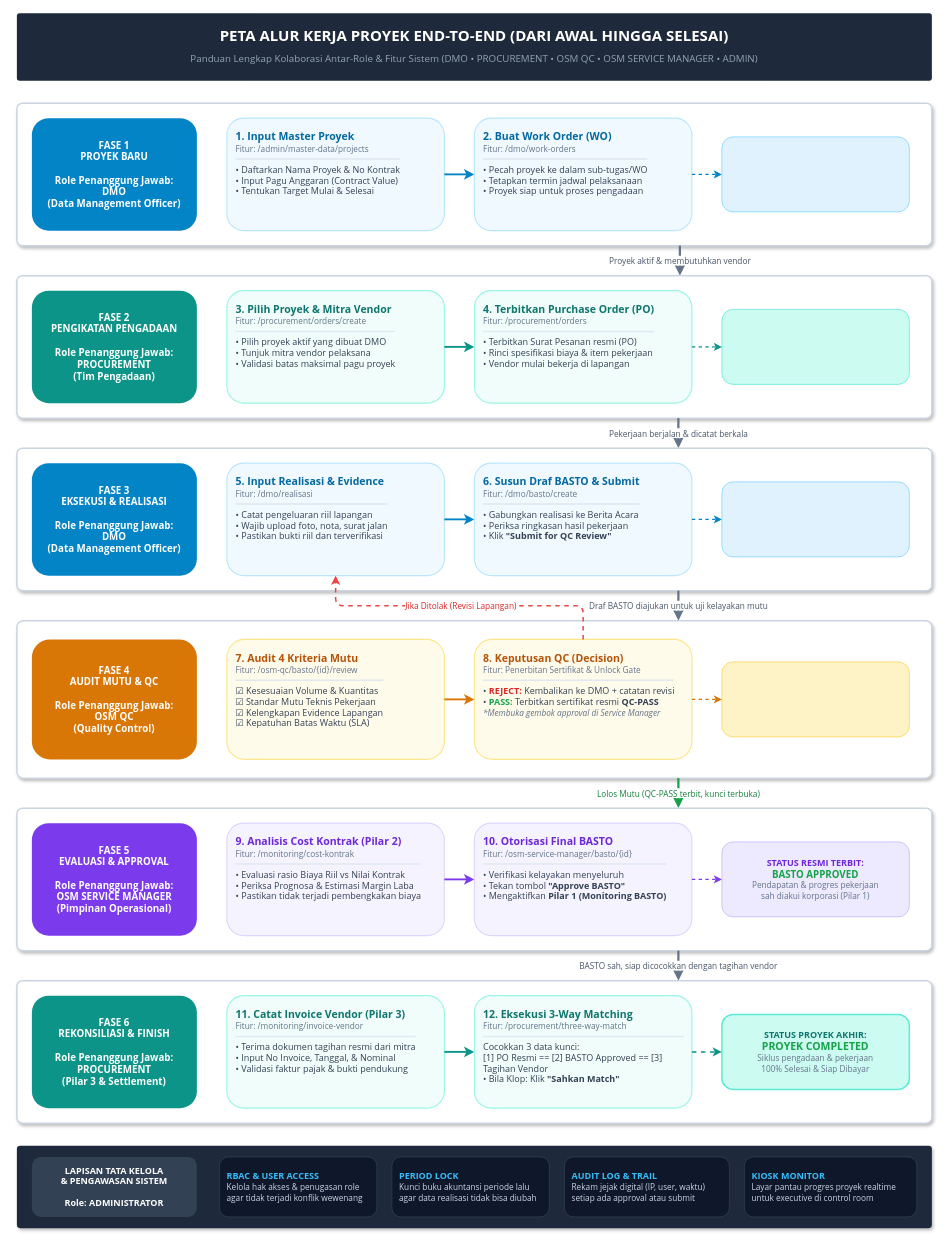
Some shapes in this 950 by 1246 pixel diagram are drawn without their labels. The shapes that lost their labels are listed below. From the top down, each one's centre as x and y in pixels, then its label:
At pixel 815 174: "DOKUMEN TERBIT: Master Kontrak & WO Aktif Siap diikat ke kontrak vendor".
At pixel 815 346: "DOKUMEN TERBIT: Surat Pesanan Resmi (PO) Nomor PO: PO-2026-XXXX".
At pixel 815 519: "DOKUMEN TERBIT: Draf BASTO (Submitted) Terkirim ke antrean tim QC".
At pixel 815 699: "DOKUMEN TERBIT: Sertifikat QC-PASS Kode: QC-PASS-XXXXX Tanda Tangan Digital QC".
